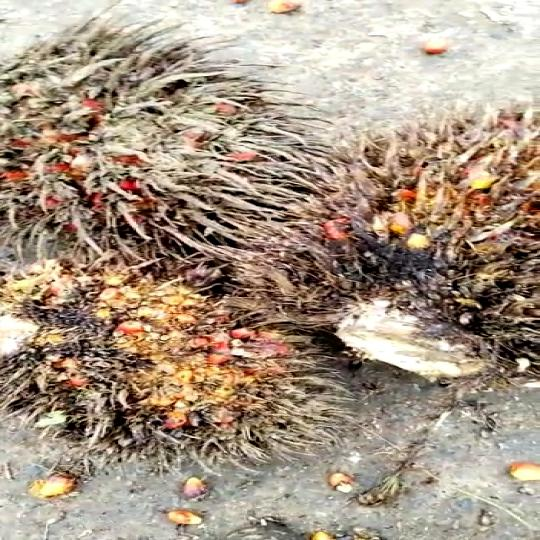terlalu masak: (0, 21, 329, 255), (0, 264, 341, 441)
